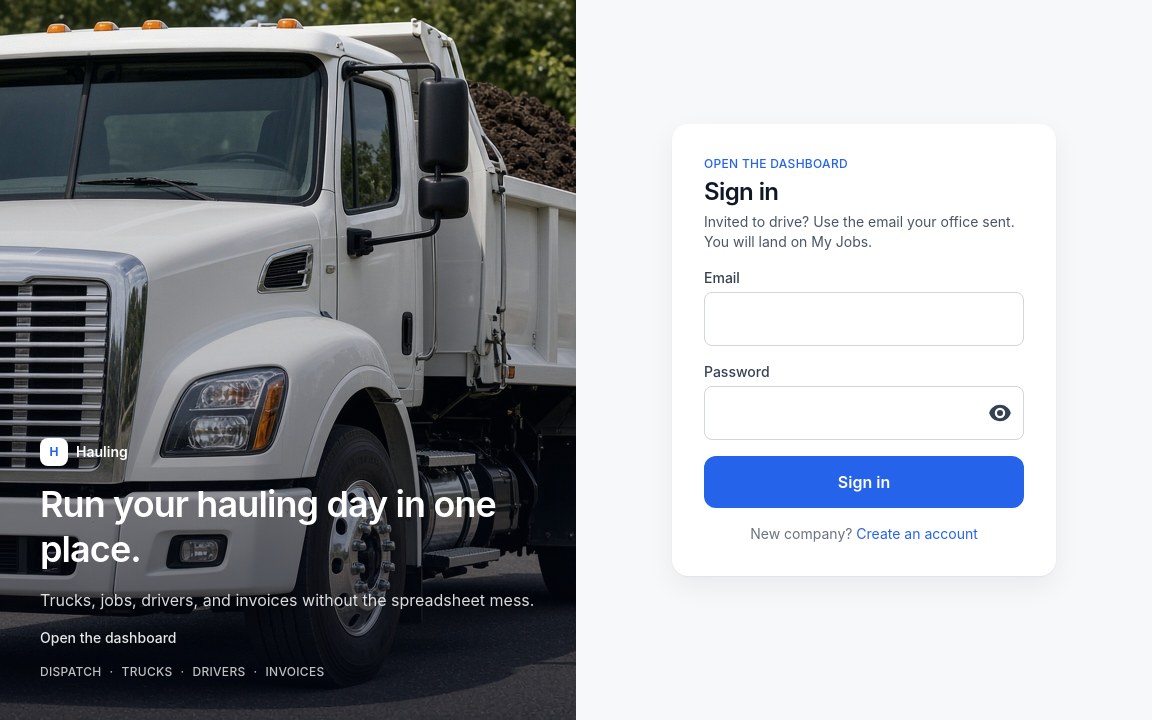
Test: LoginPage active membership gate › signs the user out when they have no active membership
Type "kim@hauling.local" into the field labelled "Email" at (864, 319), box [704,292,1024,346]
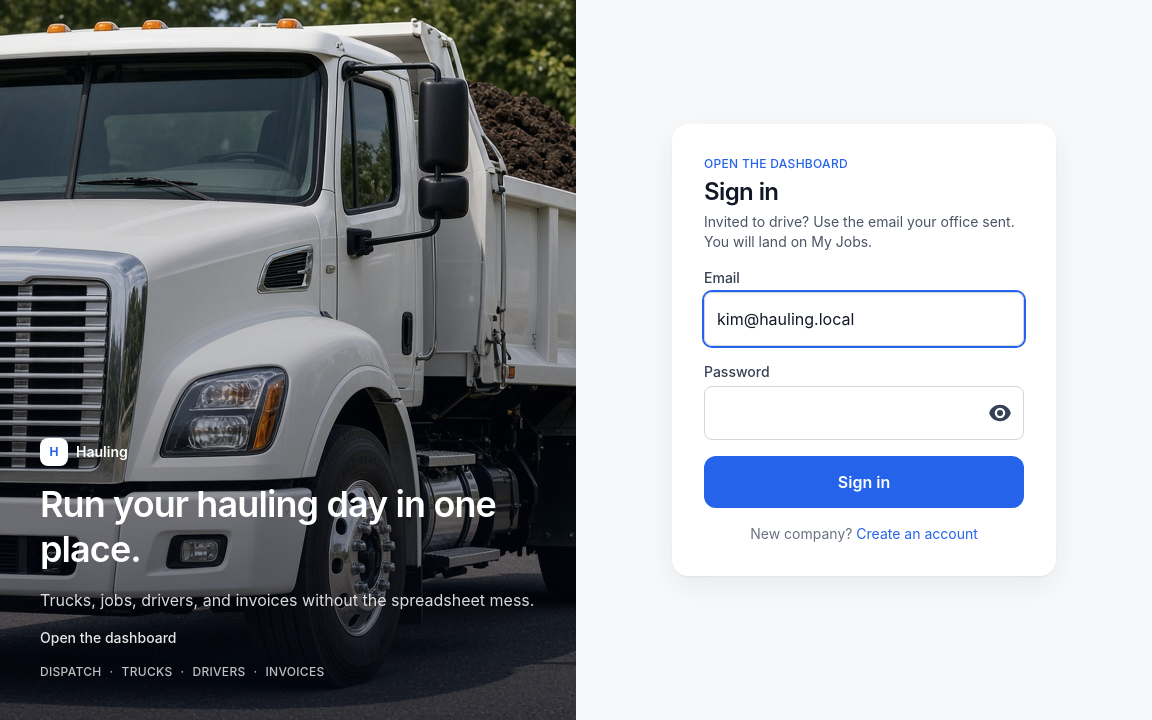
Type "secret12" into the password field labelled "Password" at (864, 413), box [704,386,1024,440]
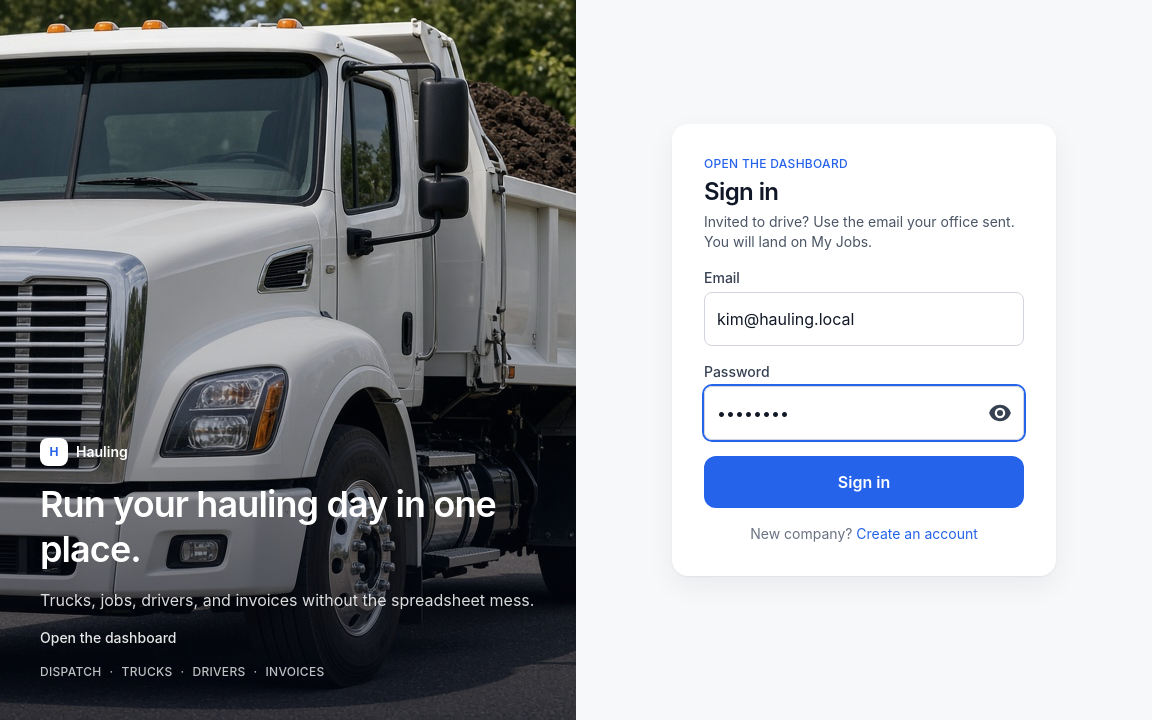
Click the button "Sign in" at (864, 482), box [704,456,1024,508]
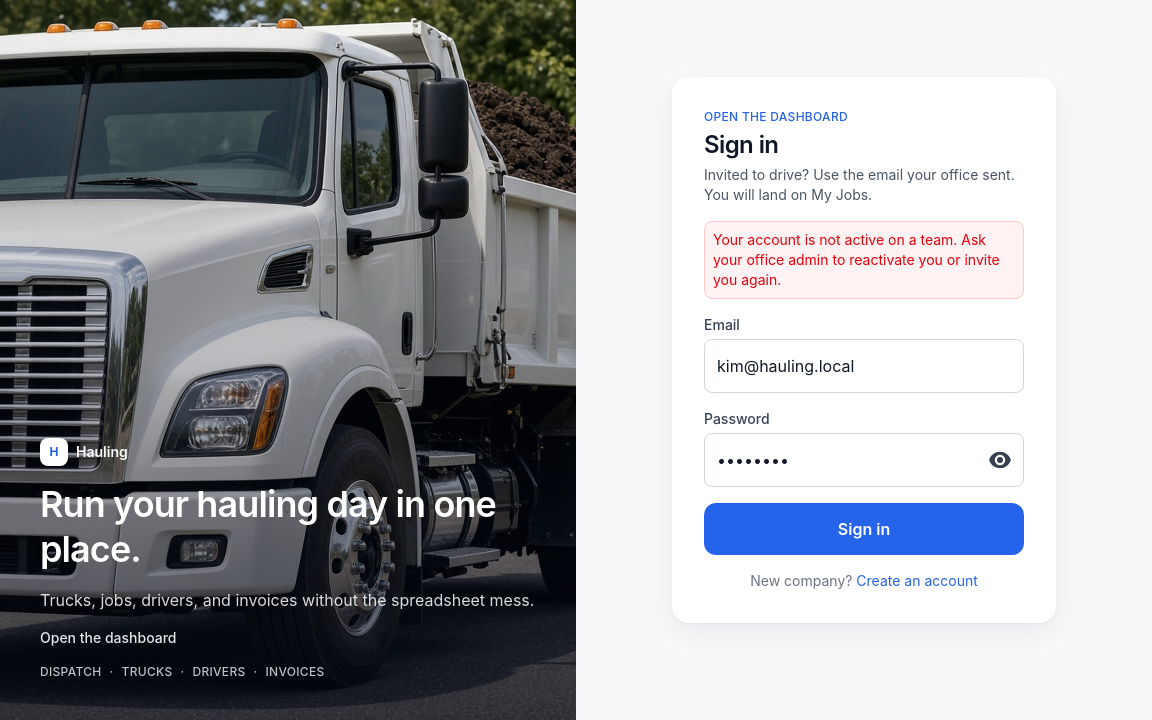
expect the text "Your account is not active on a team. Ask your office admin to reactivate you or invite you again." is shown: met, box [713,231,1000,288]
